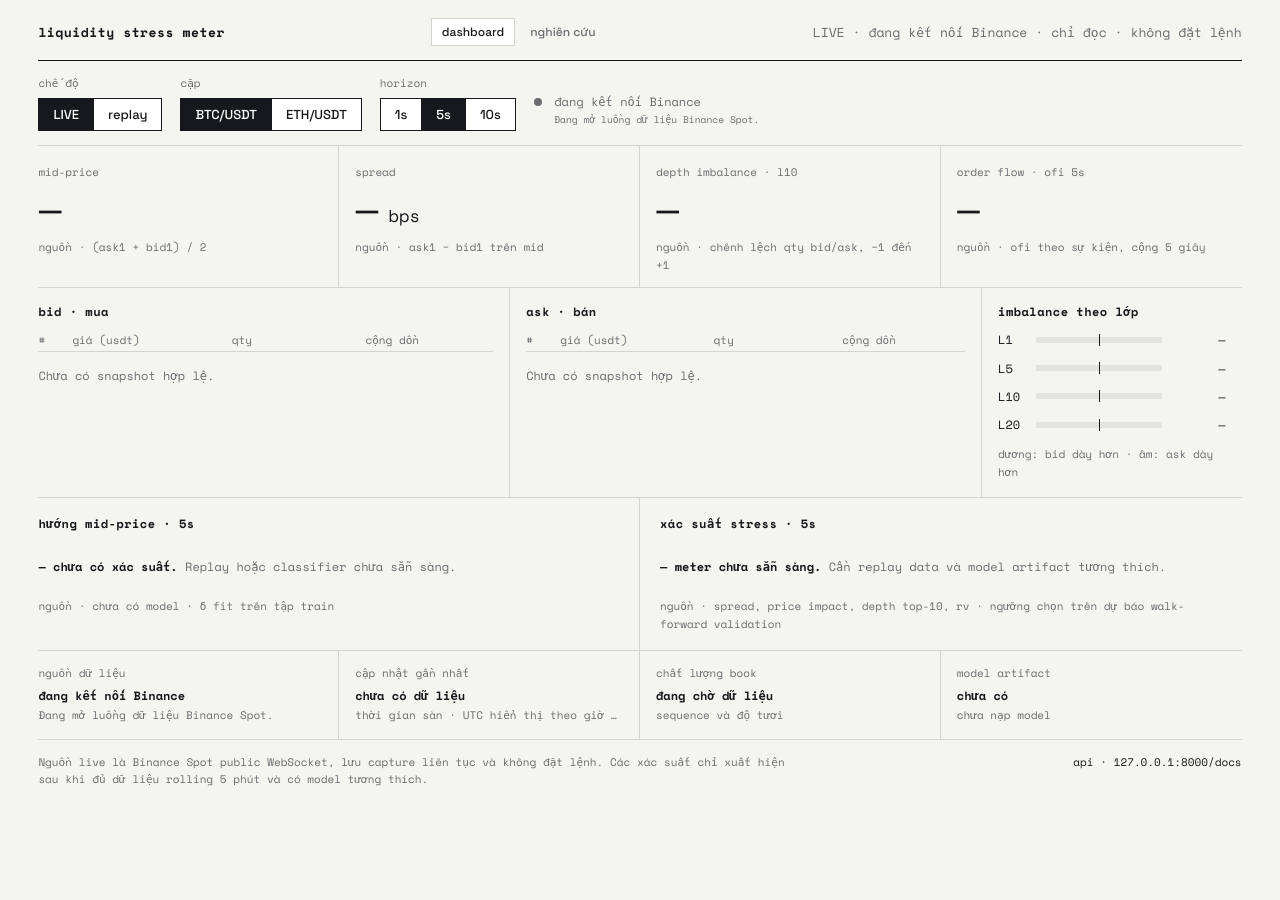
Test: LOBApp stress decision threshold › explains the research page in plain language, with a glossary before the answers
The image size is (1280, 900).
Click the button "nghiên cứu". click: coordinates (563, 32)
box: [519,18,607,46]
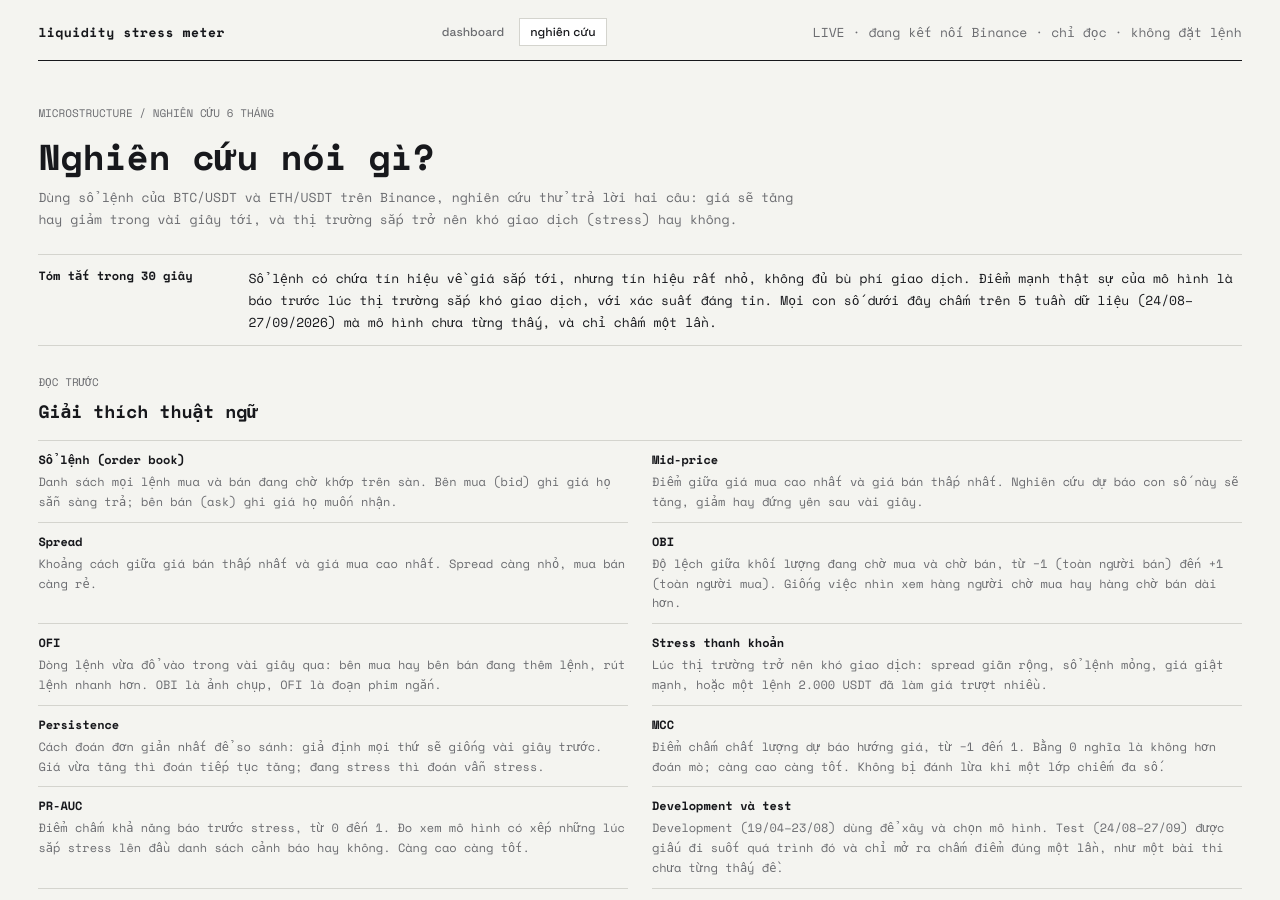
Result: the heading "Giải thích thuật ngữ" is shown at [38,398,258,424]
Result: the text "OBI" is shown at [652,533,674,550]
Result: the text "OFI" is shown at [38,634,60,651]
